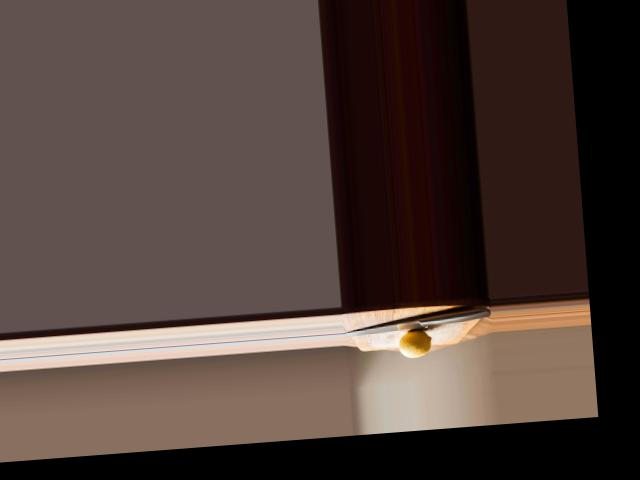lemon: (396, 329, 435, 361)
